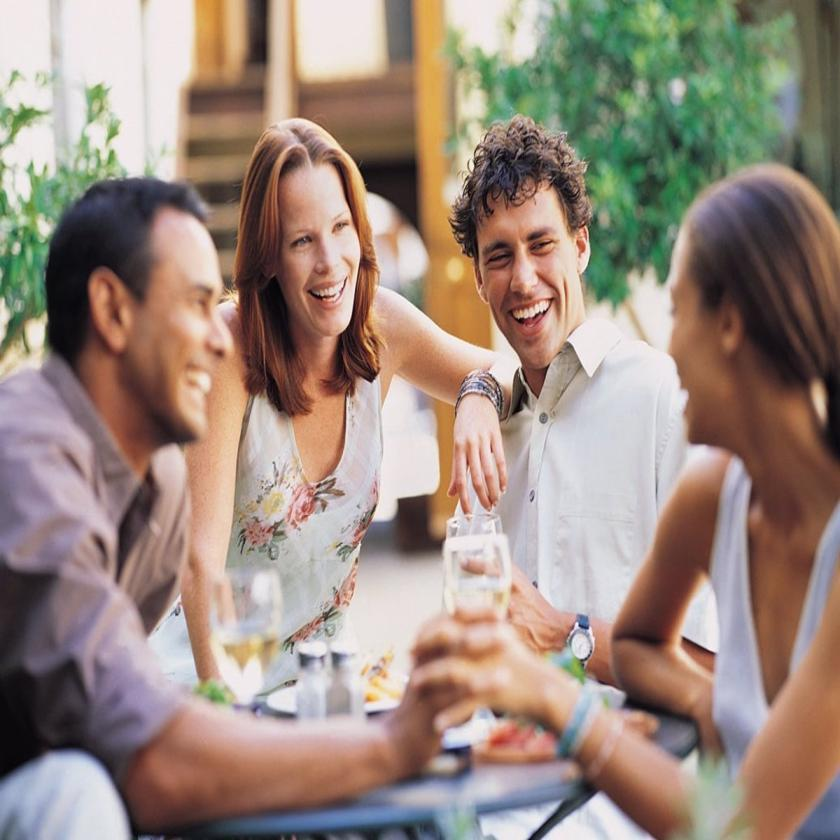Sin_casco: (37, 152, 238, 477), (653, 155, 840, 483), (446, 107, 592, 399), (242, 106, 376, 380)
